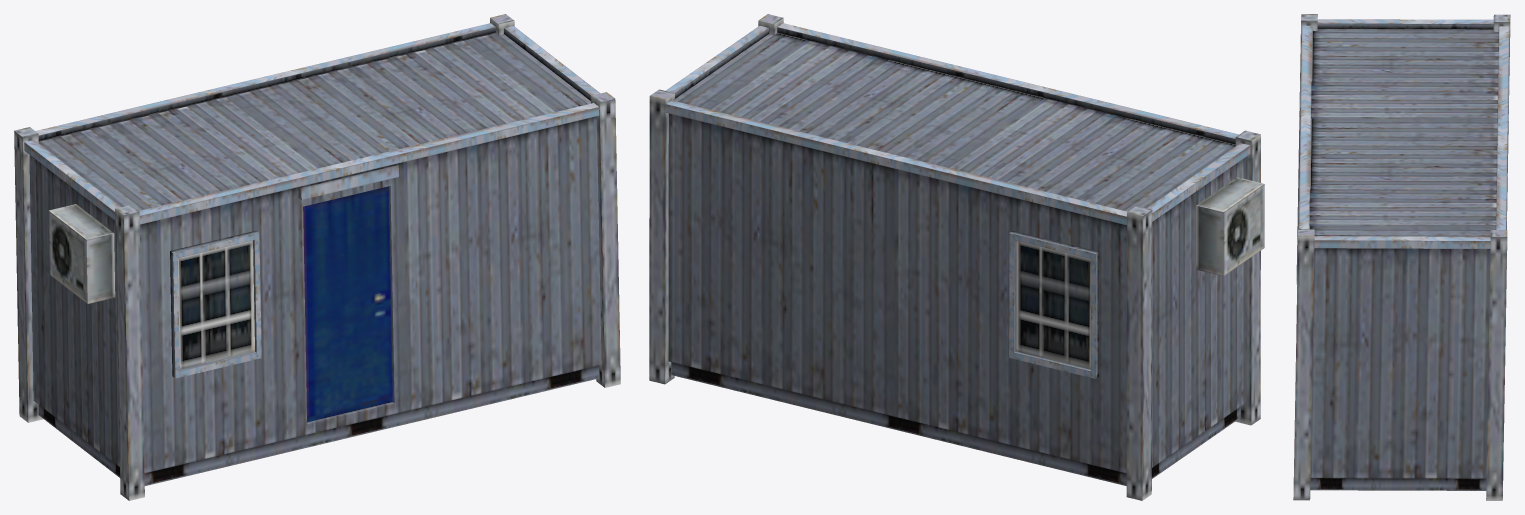
The model's file is LookumA.FBX.
The picture shows the model from 3 angles, left to right: view 1: azimuth 30°, elevation 25°; view 2: azimuth 150°, elevation 25°; view 3: azimuth 270°, elevation 25°; orthographic projection. The views are drawn at different scales.
Parts seen in each view (by area): view 1: LookumA; view 2: LookumA; view 3: LookumA.
Part boxes in pixels (x1,y1,x2,y2): LookumA: (14, 14, 620, 500); LookumA: (649, 14, 1264, 500); LookumA: (1293, 14, 1510, 500).
Bounding box in the file's own units: 437 × 232 × 172.
Materials: 1 (1 with a texture image).
